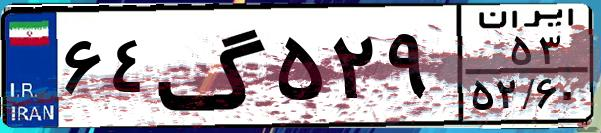0: (560, 70, 590, 125)
2: (330, 28, 385, 110), (495, 70, 520, 125)
3: (537, 27, 568, 80)
4: (110, 28, 156, 98)
5: (270, 28, 330, 110), (508, 27, 537, 80), (470, 70, 495, 125)
6: (57, 26, 110, 100), (535, 70, 560, 125)
9: (385, 28, 445, 110)
گ: (156, 12, 270, 120)
